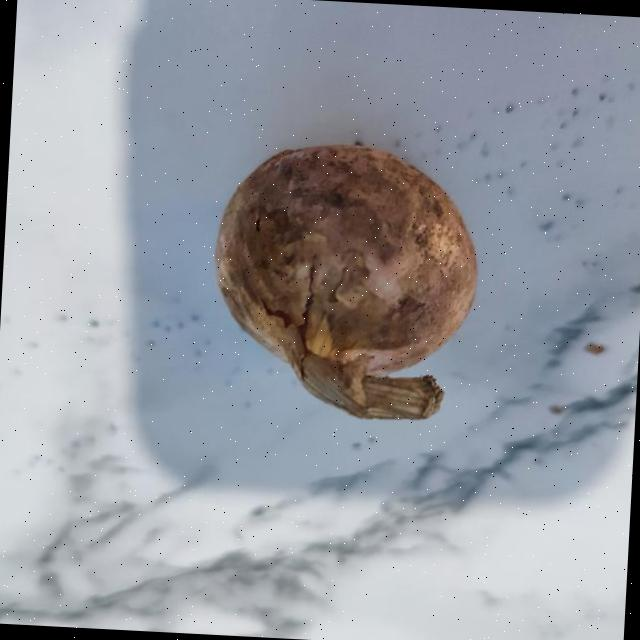Onion: (214, 144, 475, 418)
